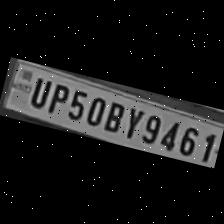0: (82, 89, 108, 126)
1: (193, 125, 219, 162)
4: (157, 114, 181, 150)
5: (62, 82, 89, 120)
6: (174, 120, 200, 156)
9: (137, 107, 163, 144)
B: (100, 96, 128, 134)
P: (44, 78, 70, 115)
U: (24, 72, 52, 109)
Y: (119, 100, 144, 140)
